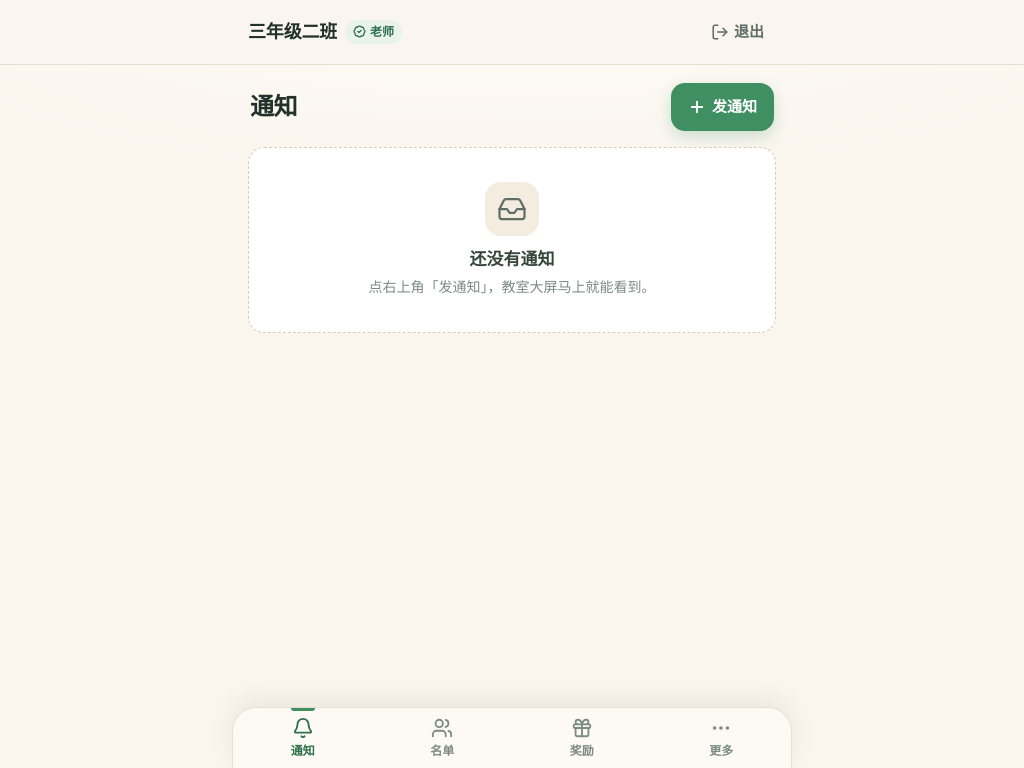
Scenario: 老师手机版 › TestChangePinWithoutOldPassword
The width and height of the screenshot is (1024, 768).
Check: the text "三年级二班" is shown, box 248,18 -> 337,46
Click the button "更多" at [721, 738], box 652,708 -> 791,767
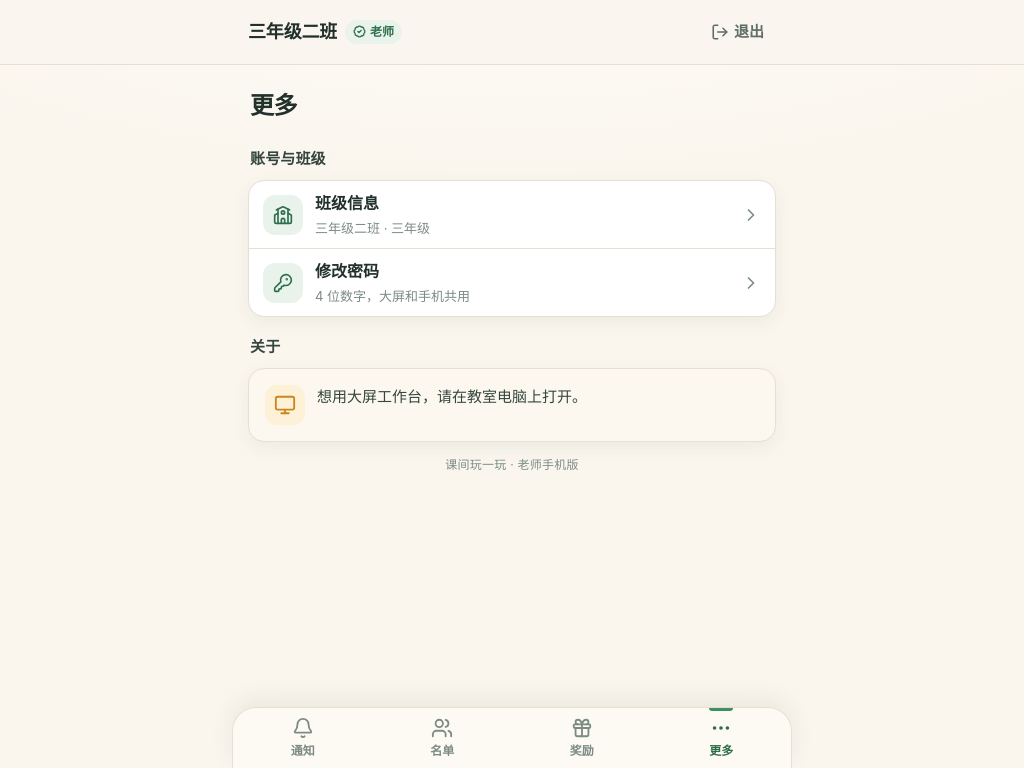
Click the button "修改密码 4 位数字，大屏和手机共用" at [283, 283], box 249,248 -> 775,316
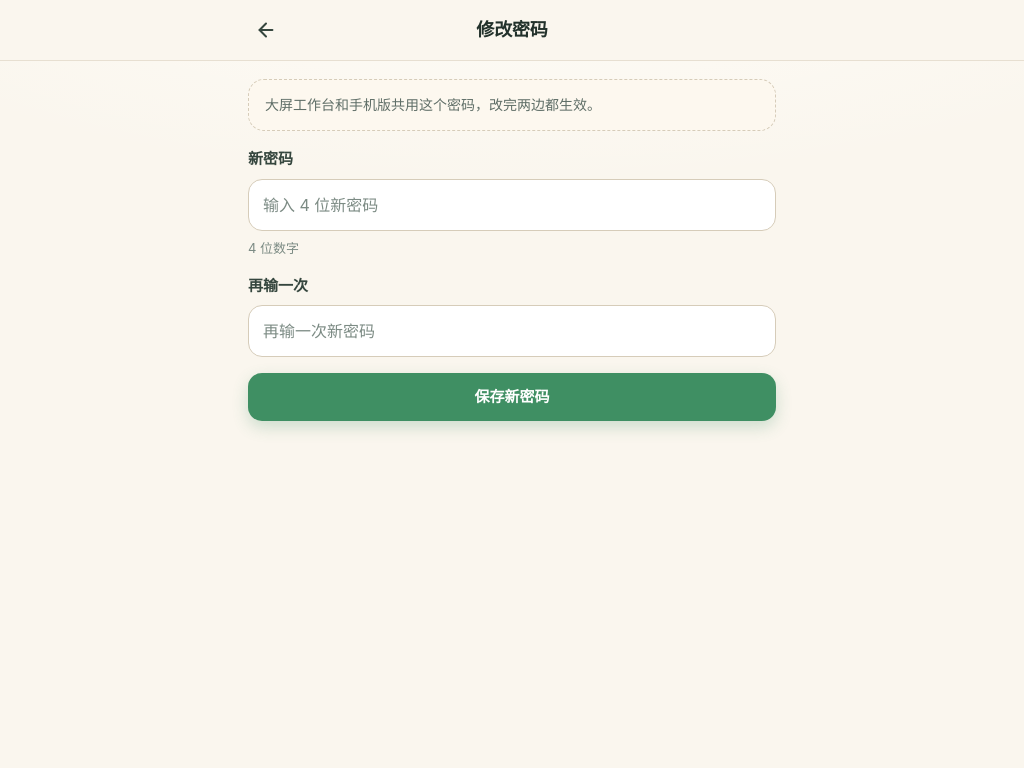
Type "4321" into the password field labelled "新密码" at [512, 205], box 248,179 -> 776,231
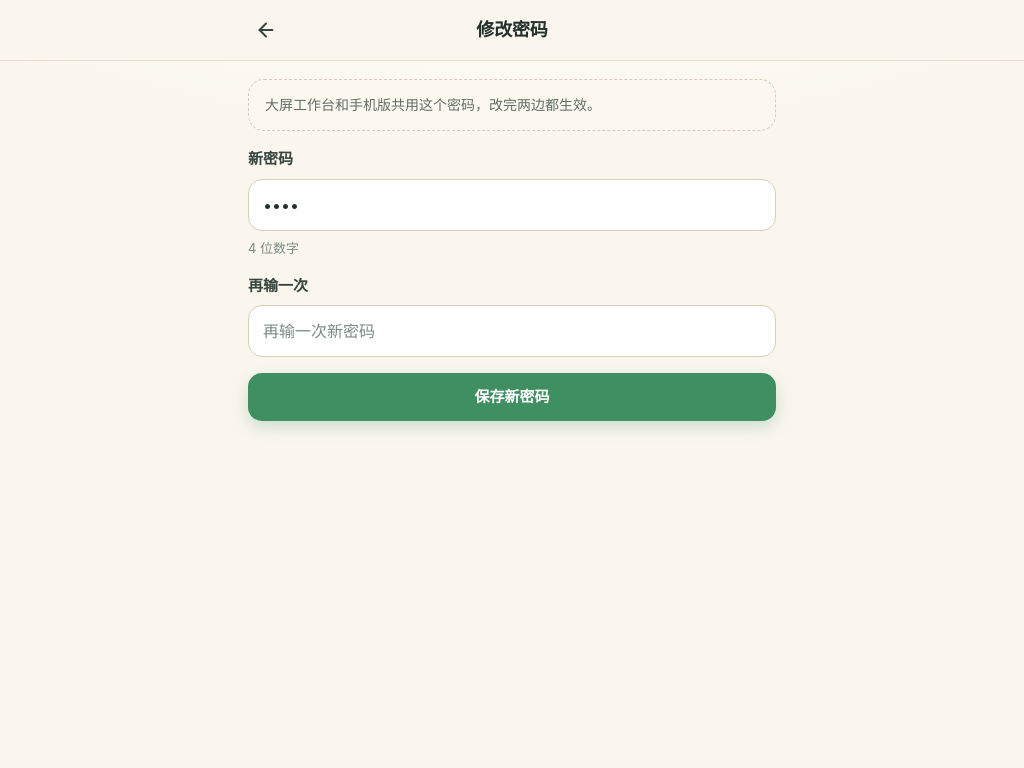
Type "4321" into the password field named "确认新密码" at [512, 331], box 248,305 -> 776,357
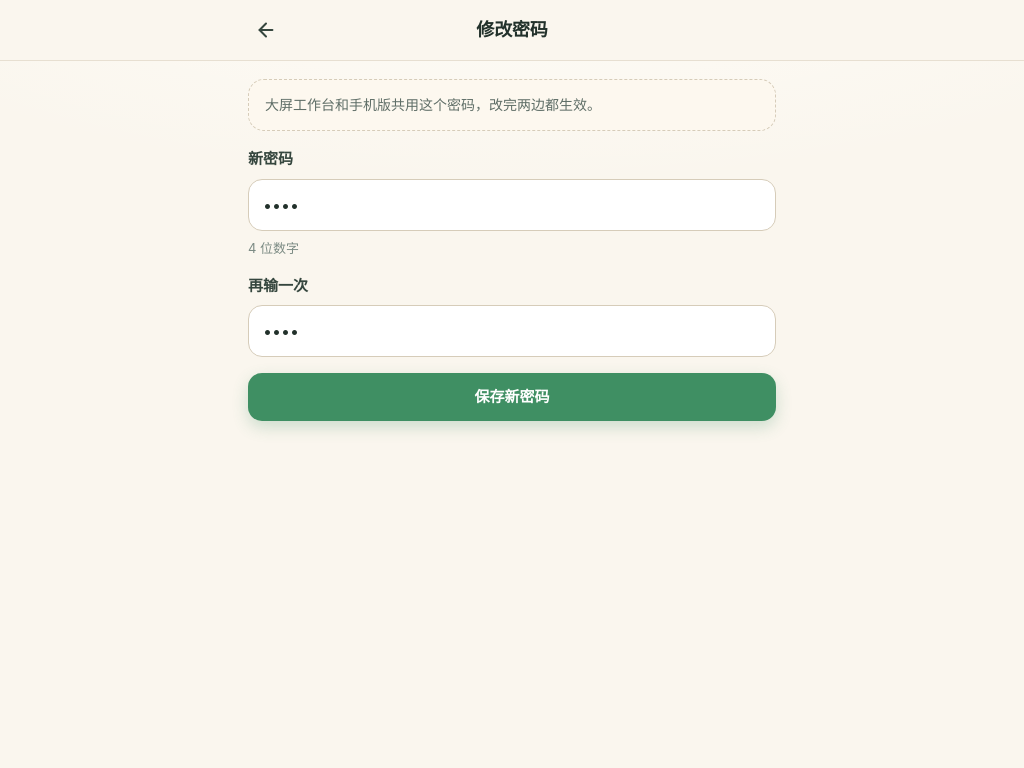
Click the button "保存新密码" at [512, 397], box 248,373 -> 776,421
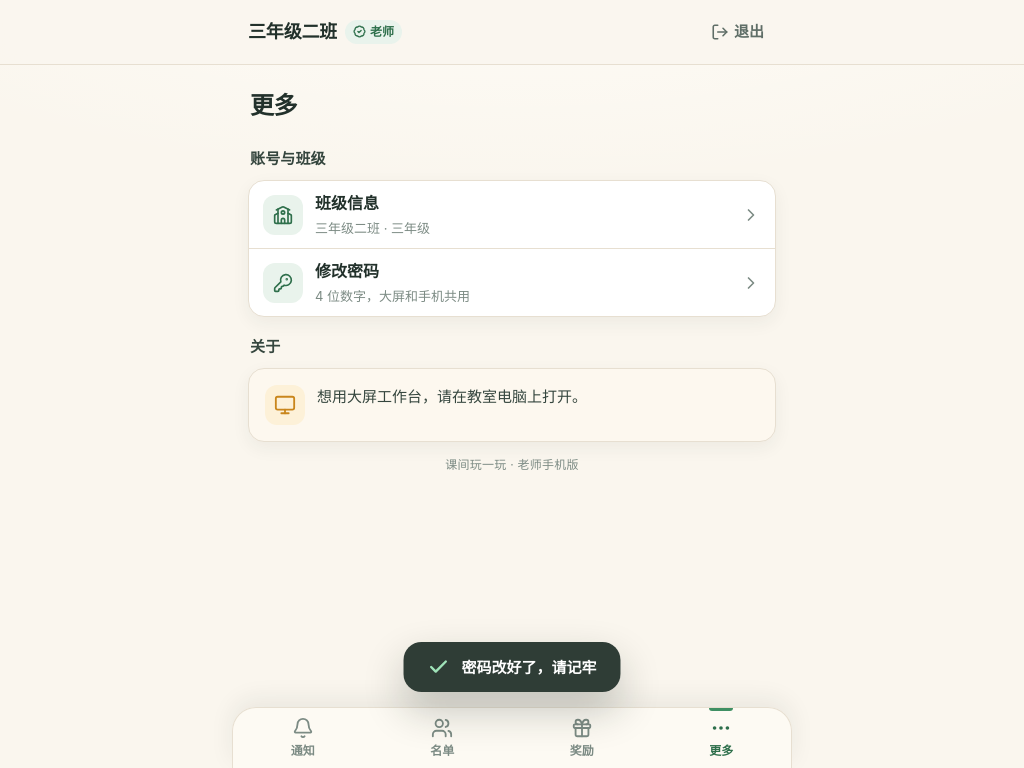
Check: the text "密码改好了，请记牢" is shown, box 462,656 -> 596,678
